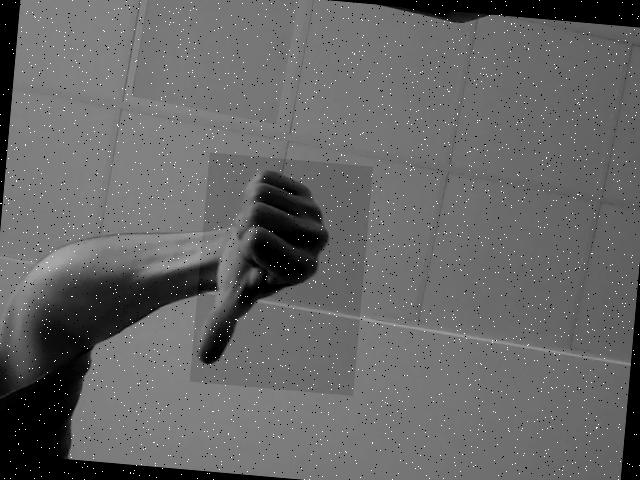bad: (190, 152, 372, 395)
